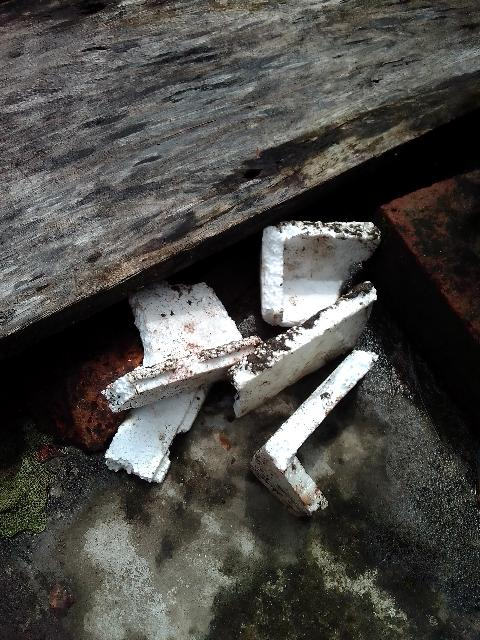cocksheet: (99, 259, 253, 414), (248, 223, 369, 392)
